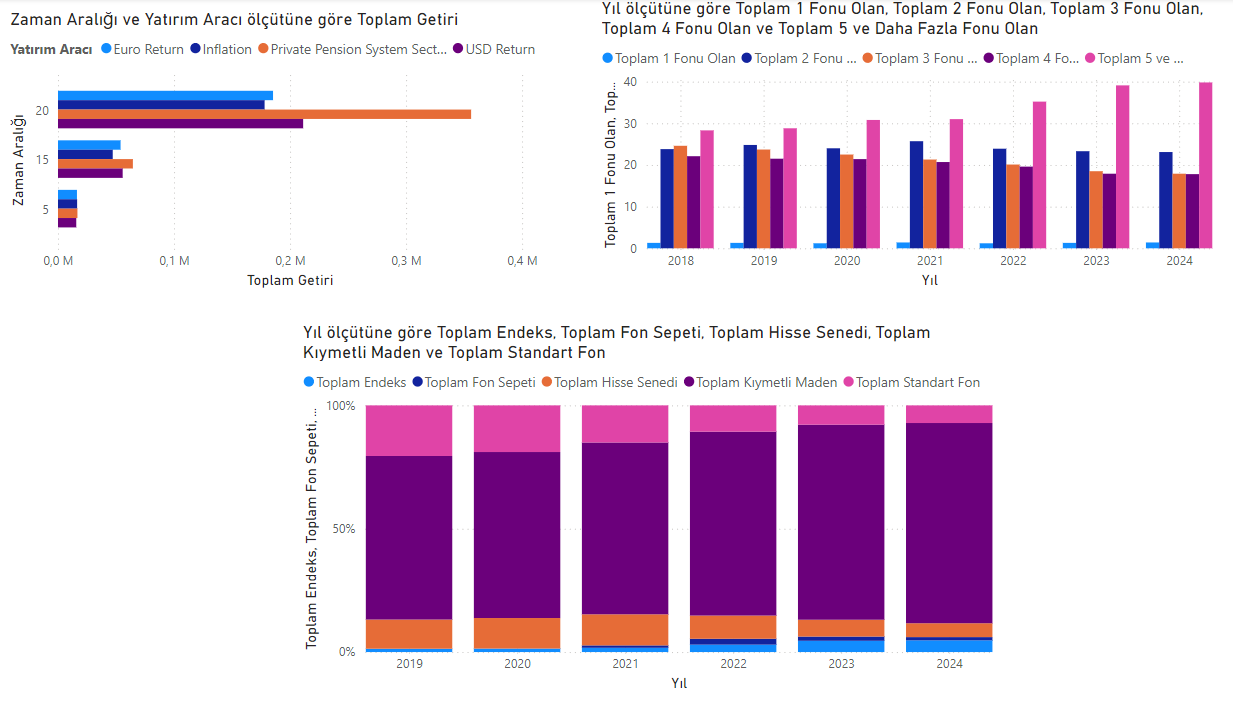

What the dashboard file says about the page in this screenshot:
{"tool":"powerbi","page":{"name":"1. sayfa","canvas":[1280,720],"ordinal":0},"visuals":[{"type":"hundredPercentStackedColumnChart","fields":{"Category":["Fon Grubu Tercihi.Tarih.Varyasyon.Tarih Hiyerarşisi.Yıl"],"Y":["Sum(Fon Grubu Tercihi.Endeks)","Sum(Fon Grubu Tercihi.Fon Sepeti)","Sum(Fon Grubu Tercihi.Hisse Senedi)","Sum(Fon Grubu Tercihi.Kıymetli Maden)","Sum(Fon Grubu Tercihi.Standart Fon)"]},"box":[326.5,316.7,684.8,366.8],"z":0},{"type":"clusteredColumnChart","fields":{"Category":["Fon Sayısı Tercihi.Tarihler.Varyasyon.Tarih Hiyerarşisi.Yıl"],"Y":["Sum(Fon Sayısı Tercihi.1 Fonu Olan)","Sum(Fon Sayısı Tercihi.2 Fonu Olan)","Sum(Fon Sayısı Tercihi.3 Fonu Olan)","Sum(Fon Sayısı Tercihi.4 Fonu Olan)","Sum(Fon Sayısı Tercihi.5 ve Daha Fazla Fonu Olan)"]},"box":[618.8,0,607.7,288.6],"z":1000},{"type":"clusteredBarChart","fields":{"Category":["Getiri Tablosu.Zaman Aralığı"],"Series":["Getiri Tablosu.Yatırım Aracı"],"Y":["Sum(Getiri Tablosu.Getiri)"]},"box":[40.4,9.8,525.8,278.8],"z":2000}]}

Visuals, with their boxes in screenshot pixels (x1, y1, x2, y2), scaled from the page's 1280x720 canvas onto the 1233x707 screenshot:
hundredPercentStackedColumnChart - Fon Grubu Tercihi.Tarih.Varyasyon.Tarih Hiyerarşisi.Yıl x Sum(Fon Grubu Tercihi.Endeks): (left=315, top=311, right=974, bottom=671)
clusteredColumnChart - Fon Sayısı Tercihi.Tarihler.Varyasyon.Tarih Hiyerarşisi.Yıl x Sum(Fon Sayısı Tercihi.1 Fonu Olan): (left=596, top=0, right=1181, bottom=283)
clusteredBarChart - Getiri Tablosu.Zaman Aralığı x Getiri Tablosu.Yatırım Aracı: (left=39, top=10, right=545, bottom=283)
